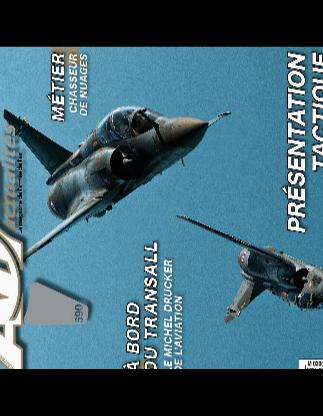Mirage2000: (0, 105, 230, 307), (170, 216, 321, 326)
